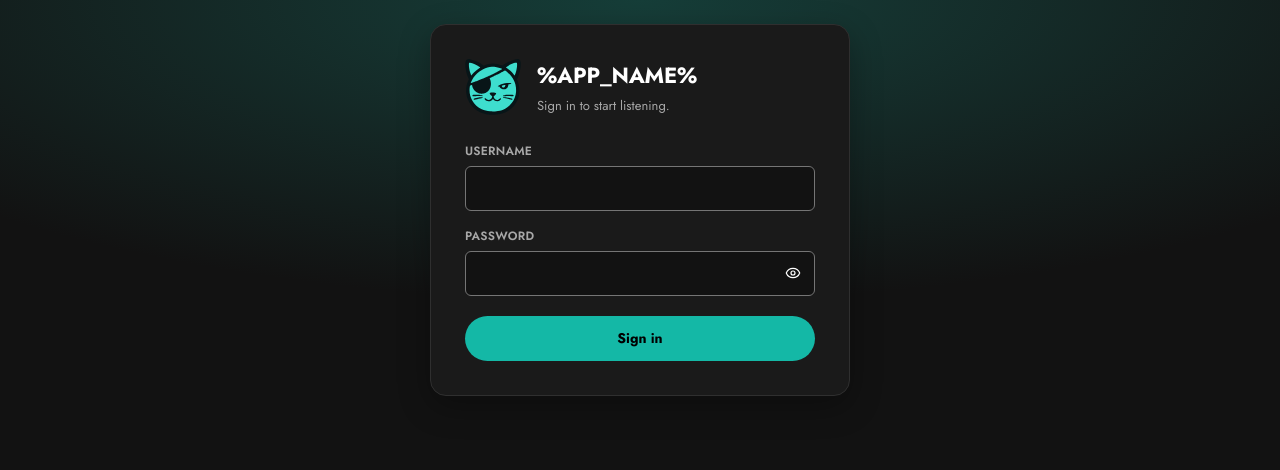
Test: LoginScreen › shows the server's error for a wrong password
In the field with id "username": x=640, y=188 top-left (465, 166), bottom-right (815, 210), type "alice"
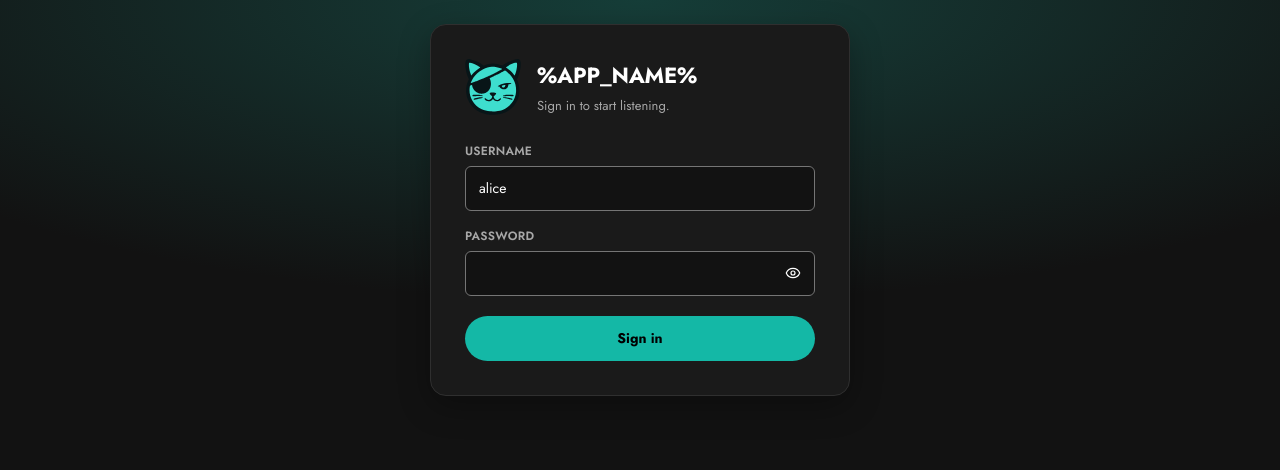
In the password field labelled "Password": x=640, y=273 top-left (465, 250), bottom-right (815, 296), type "wrong"
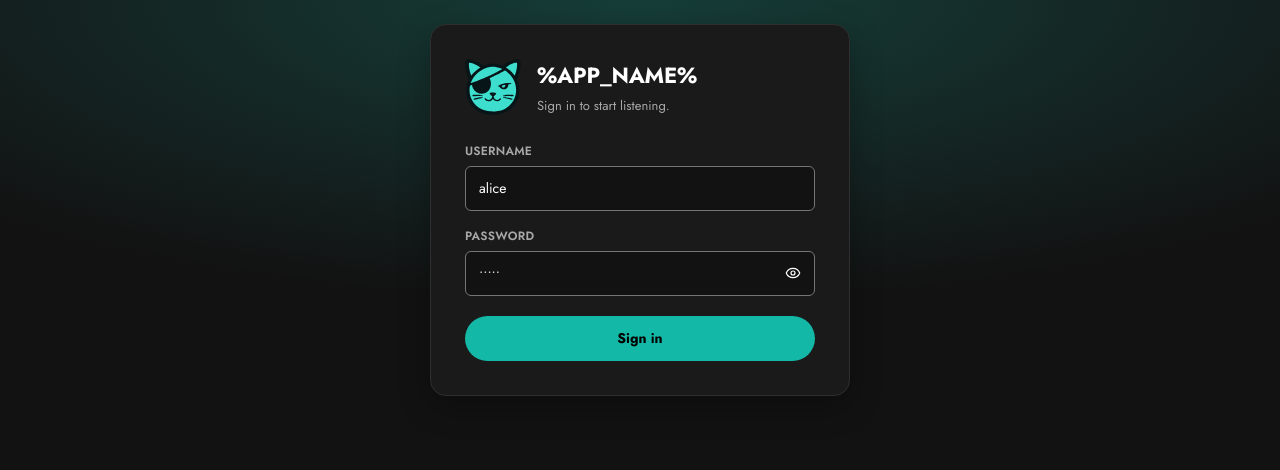
Submit the form, box top-left (465, 142), bottom-right (815, 360)
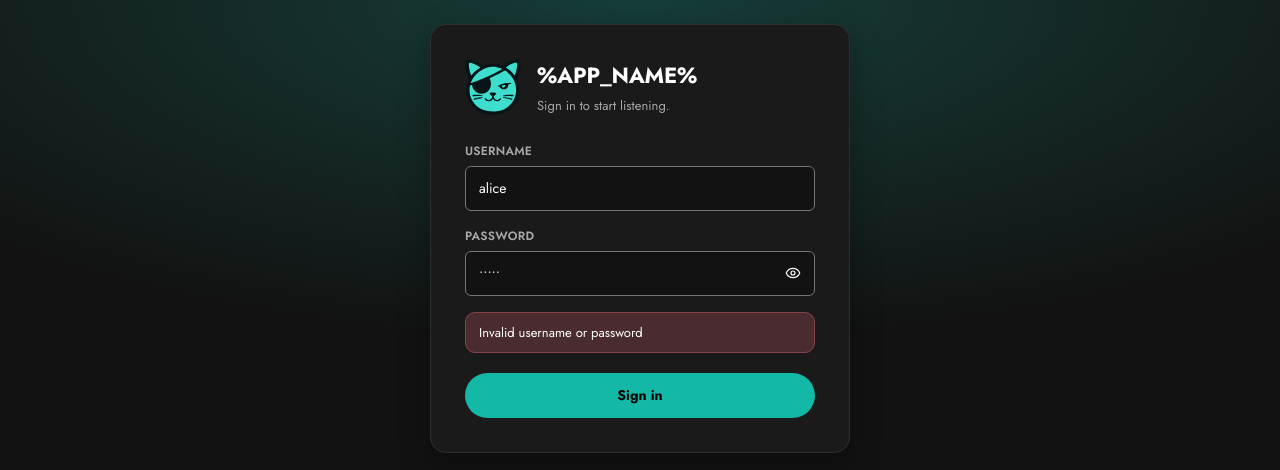
Check: the message "Invalid username or password" is shown, box top-left (465, 312), bottom-right (815, 353)
